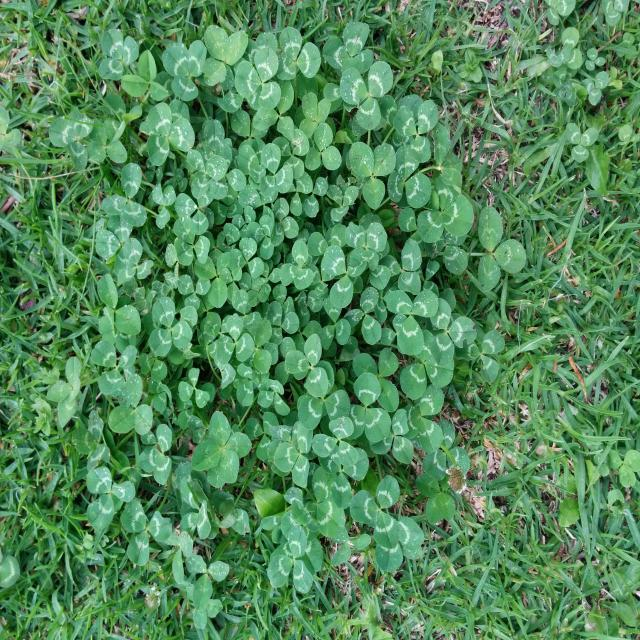Four Leaf Clover: (191, 411, 252, 488), (46, 357, 81, 428)
